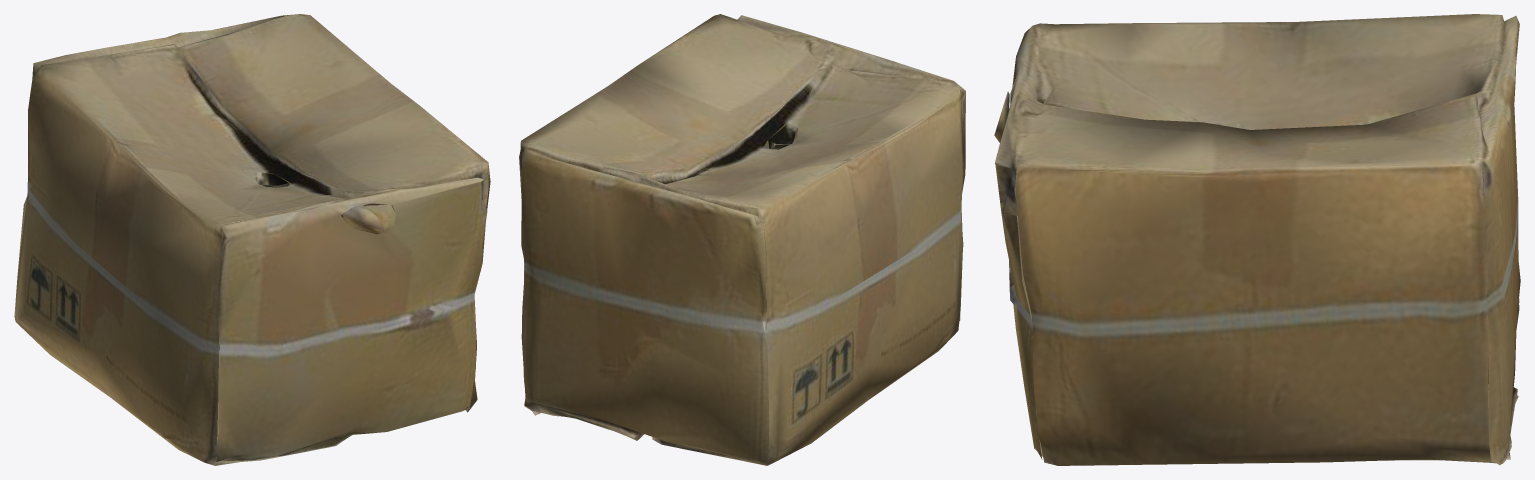
The model's file is cardboard_box_01.gltf.
3 renders of one model, left to right at view 1: azimuth 30°, elevation 25°; view 2: azimuth 150°, elevation 25°; view 3: azimuth 270°, elevation 25°, orthographic. The views are drawn at different scales.
Parts seen in each view (by area): view 1: cardboard_box_01; view 2: cardboard_box_01; view 3: cardboard_box_01.
Part boxes in pixels (x1,y1,x2,y2): cardboard_box_01: [14, 14, 490, 465]; cardboard_box_01: [519, 14, 965, 465]; cardboard_box_01: [994, 14, 1520, 465].
Bounding box in the file's own units: 0.3872 × 0.3404 × 0.5151.
1 material, 1 textured.
